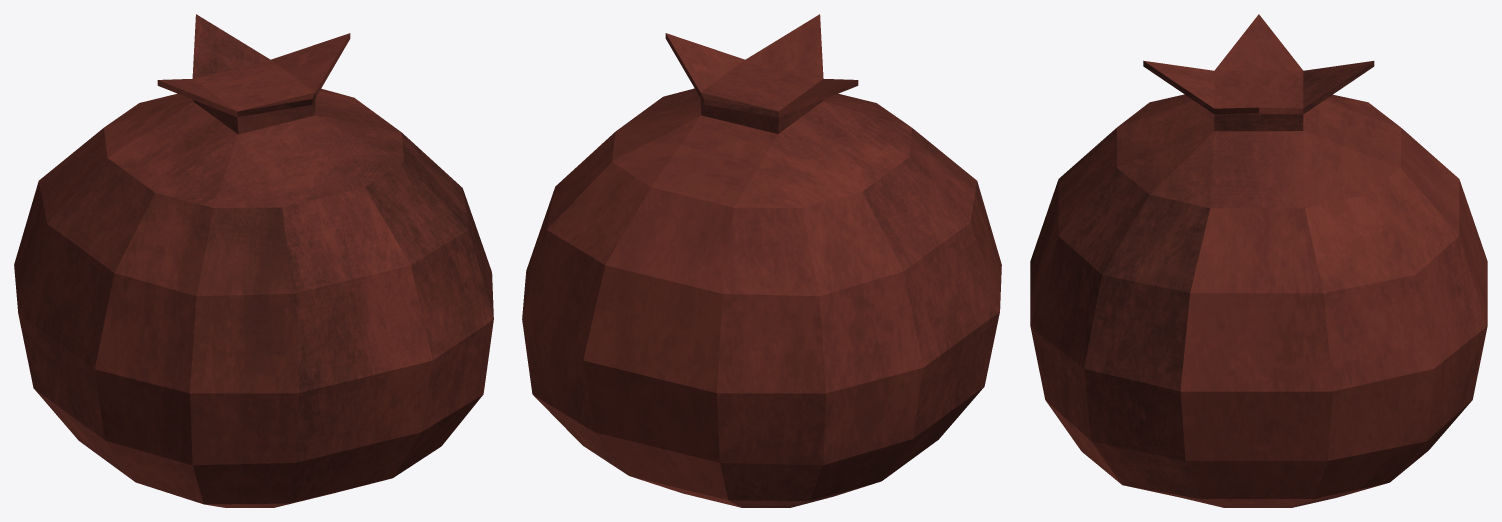
Rendered from Pomegranate.fbx.
The picture shows the model from 3 angles, left to right: view 1: azimuth 30°, elevation 25°; view 2: azimuth 150°, elevation 25°; view 3: azimuth 270°, elevation 25°; orthographic projection.
Parts seen in each view (by area): view 1: Magrana; view 2: Magrana; view 3: Magrana.
Part boxes in pixels (left/top/right/bottom): Magrana: left=14, top=14, right=493, bottom=507; Magrana: left=522, top=14, right=1001, bottom=507; Magrana: left=1030, top=14, right=1487, bottom=507.
Size of the model in its own units: 86.76 by 84.84 by 86.92.
1 material, 1 textured.
